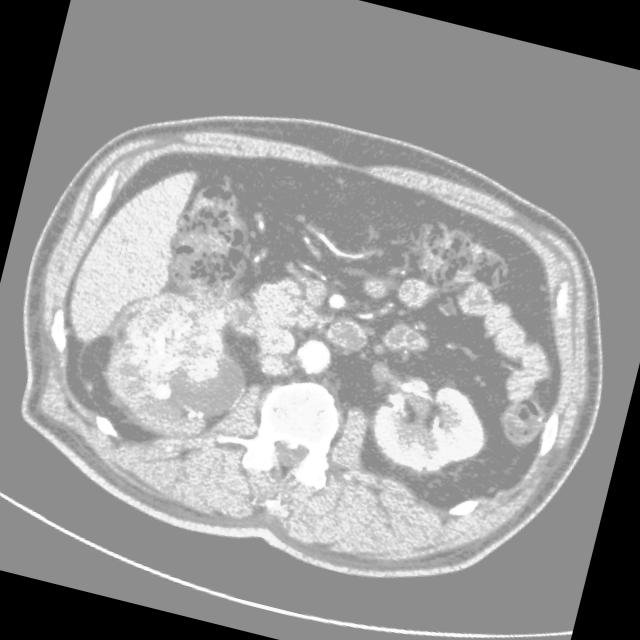TUMOR: (29, 150, 542, 484)
